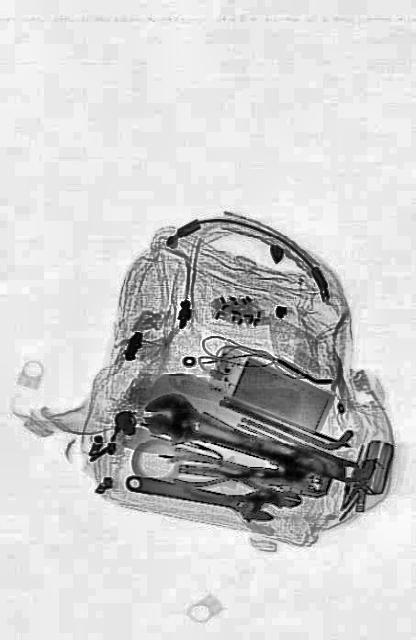Wrench: (141, 384, 363, 498), (124, 462, 280, 526)
